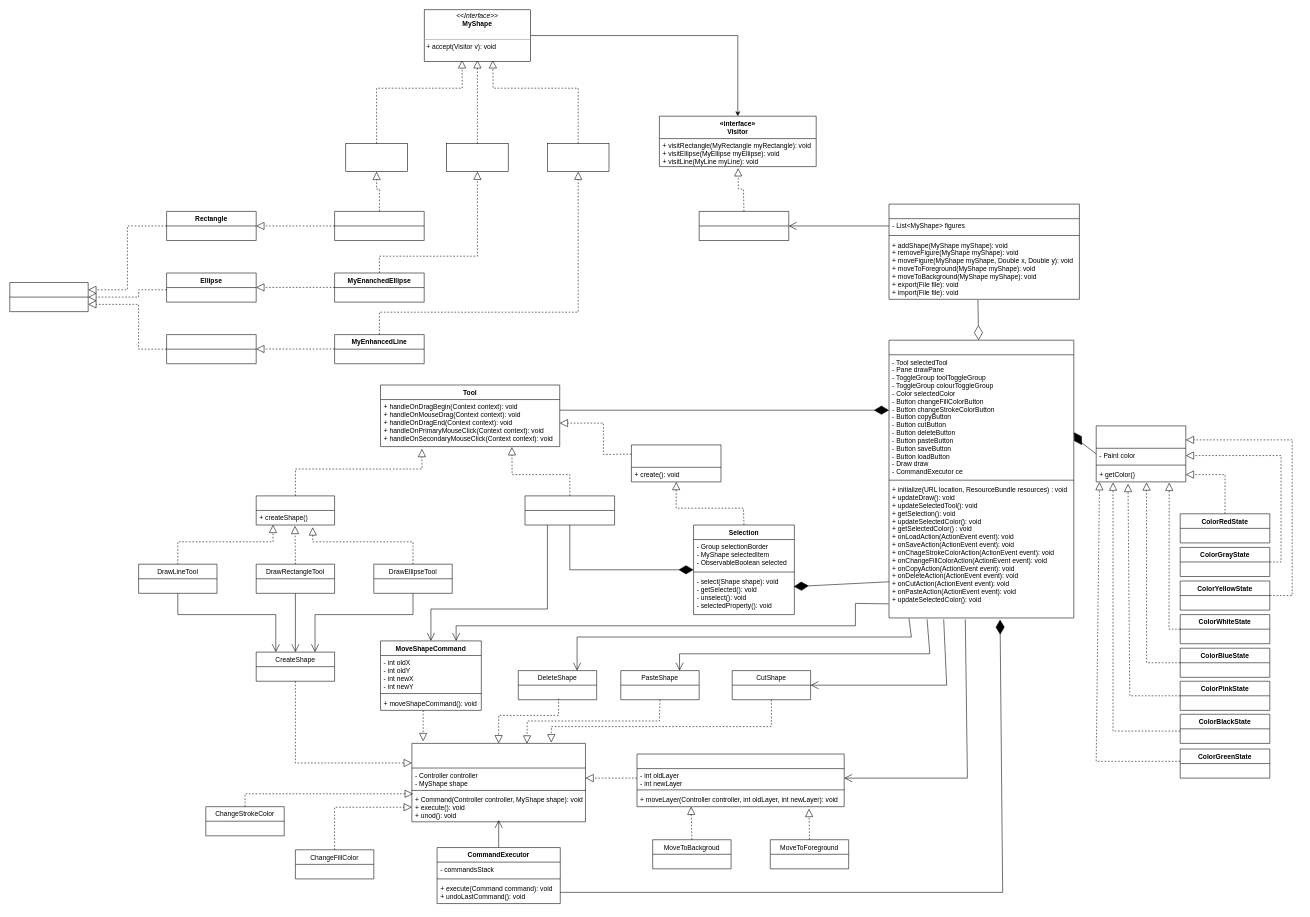
Some shapes in this 1310 by 917 pixel diagram are drawn without their labels. Each missing label, with the box of its shape:
Controller: (888, 340, 1074, 618)
Drawing: (888, 204, 1079, 299)
DrawShapeTool: (256, 495, 335, 525)
JavaFX Shape: (9, 282, 88, 312)
JSONExportVisitor: (699, 211, 789, 241)
Line: (166, 334, 256, 364)
MoveLayerCommand: (636, 753, 844, 807)
MyEnhancedRectangle: (334, 211, 424, 241)
SelectTool: (524, 495, 615, 525)
«interface» ColorState: (1096, 425, 1186, 482)
«interface» Command: (411, 743, 585, 822)
«interface» MyEllipse: (446, 143, 508, 172)
«interface» MyLine: (547, 143, 609, 172)
«interface» MyRectangle: (345, 143, 407, 172)
«interface» Singleton: (631, 444, 721, 482)
